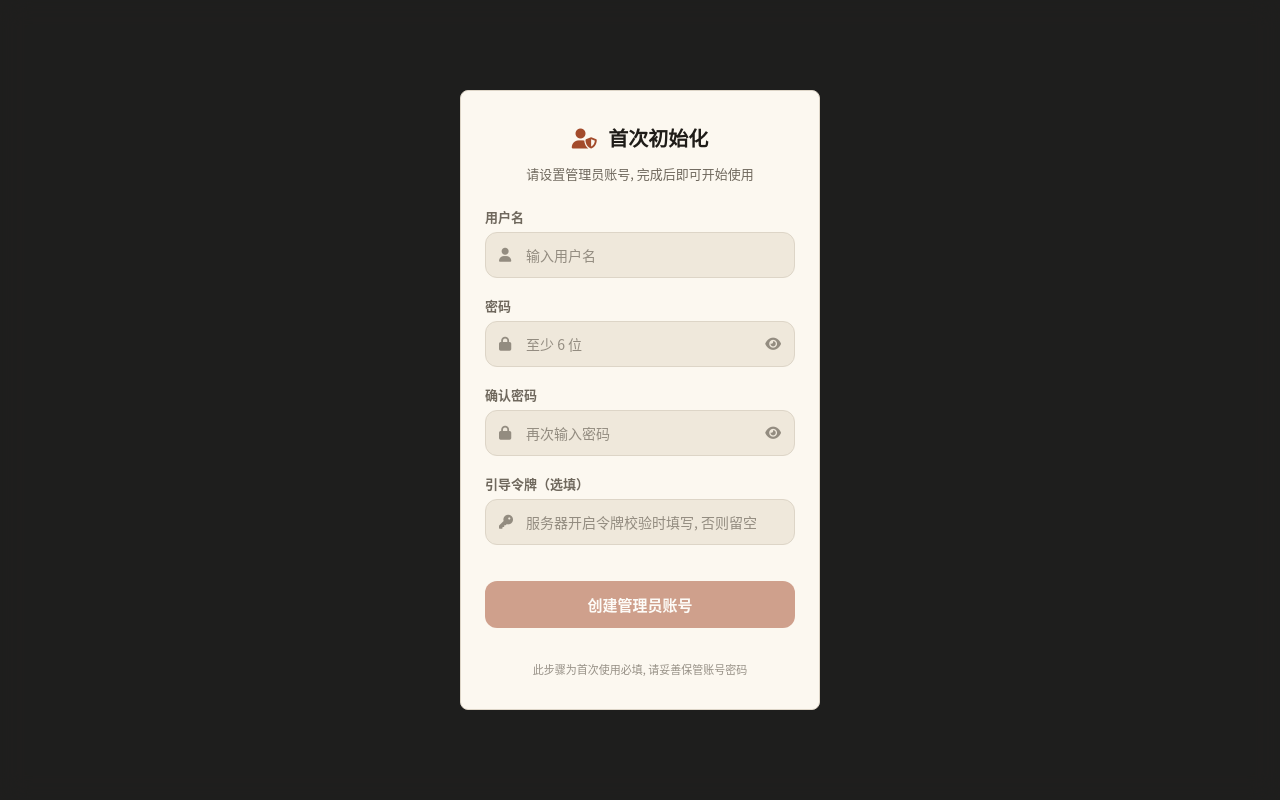
Test: SetupOverlay › setup failure › API 返回 null 时显示网络错误
Type "admin" into the field with id "setup-username".
click(640, 255); type("admin")  # box [485, 232, 795, 278]
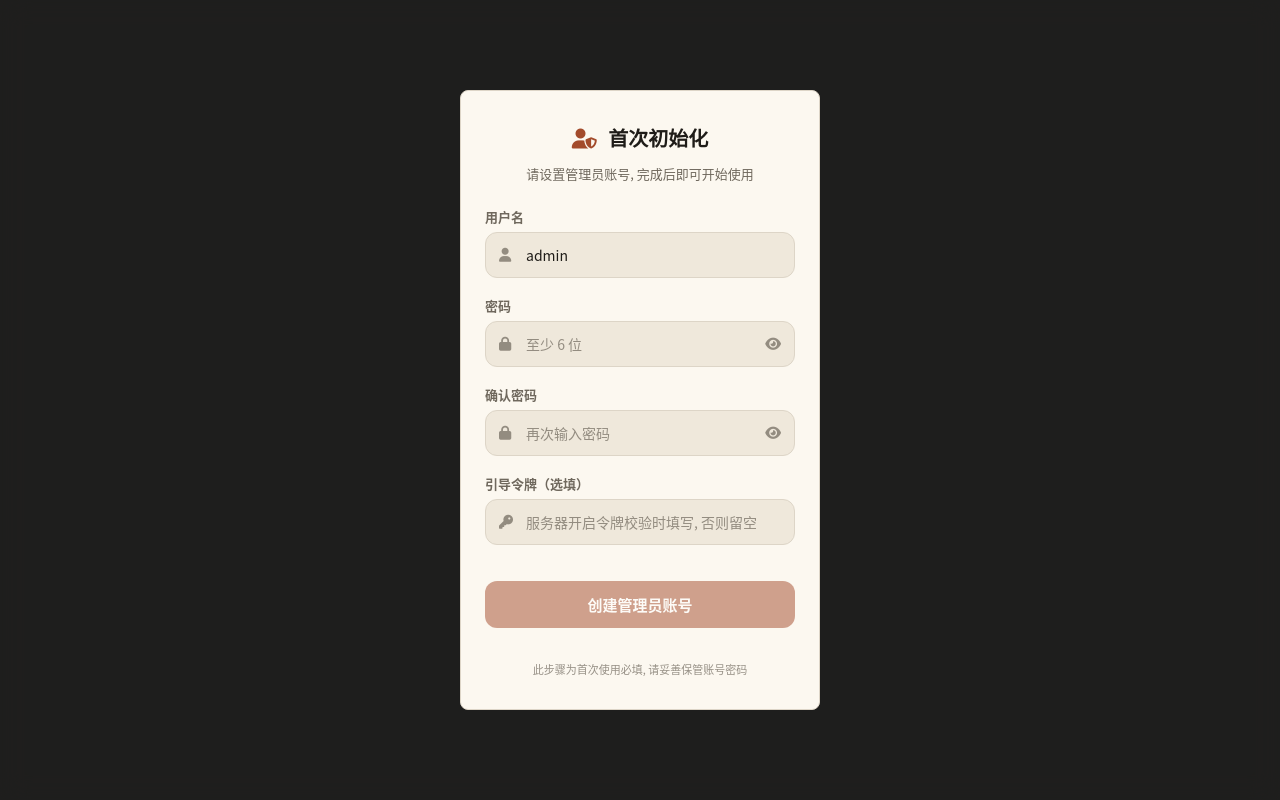
Type "123456" into the password field with id "setup-password".
click(640, 344); type("123456")  # box [485, 321, 795, 367]
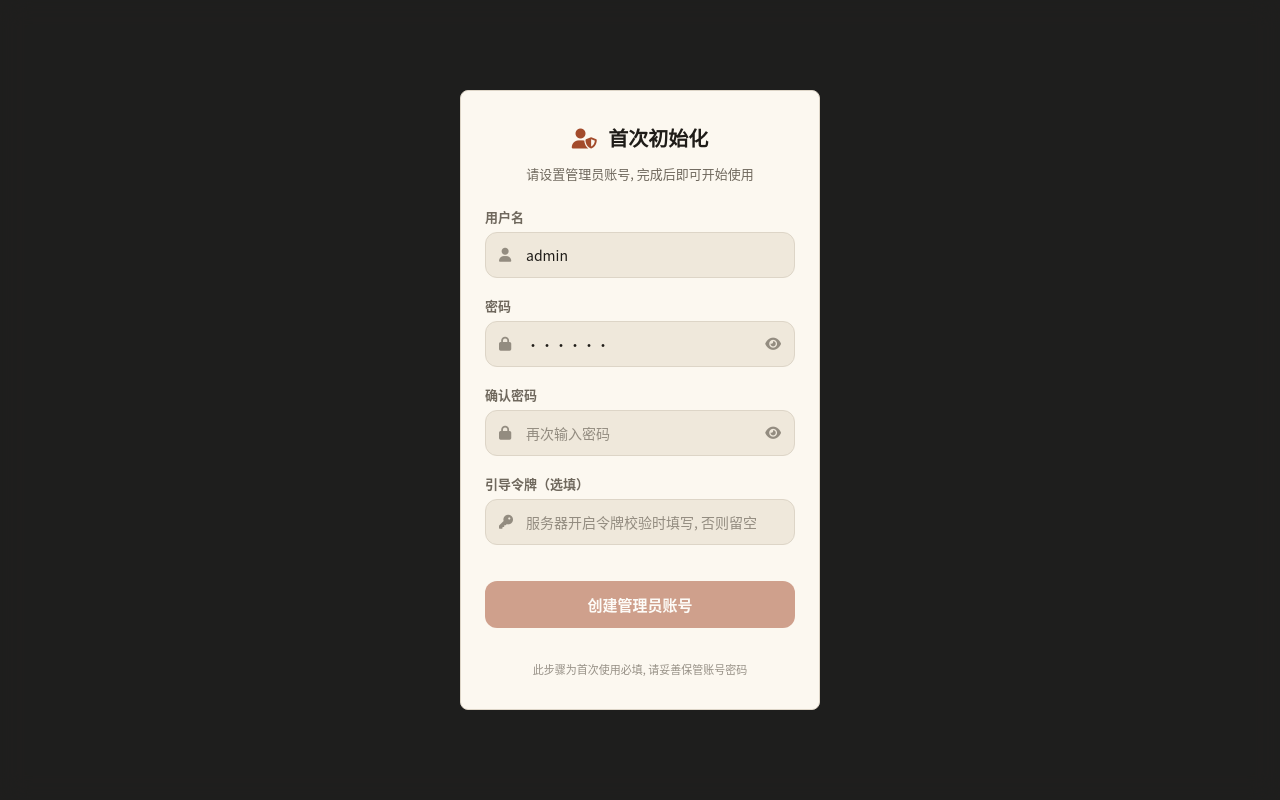
Type "123456" into the password field with id "setup-confirm".
click(640, 433); type("123456")  # box [485, 410, 795, 456]
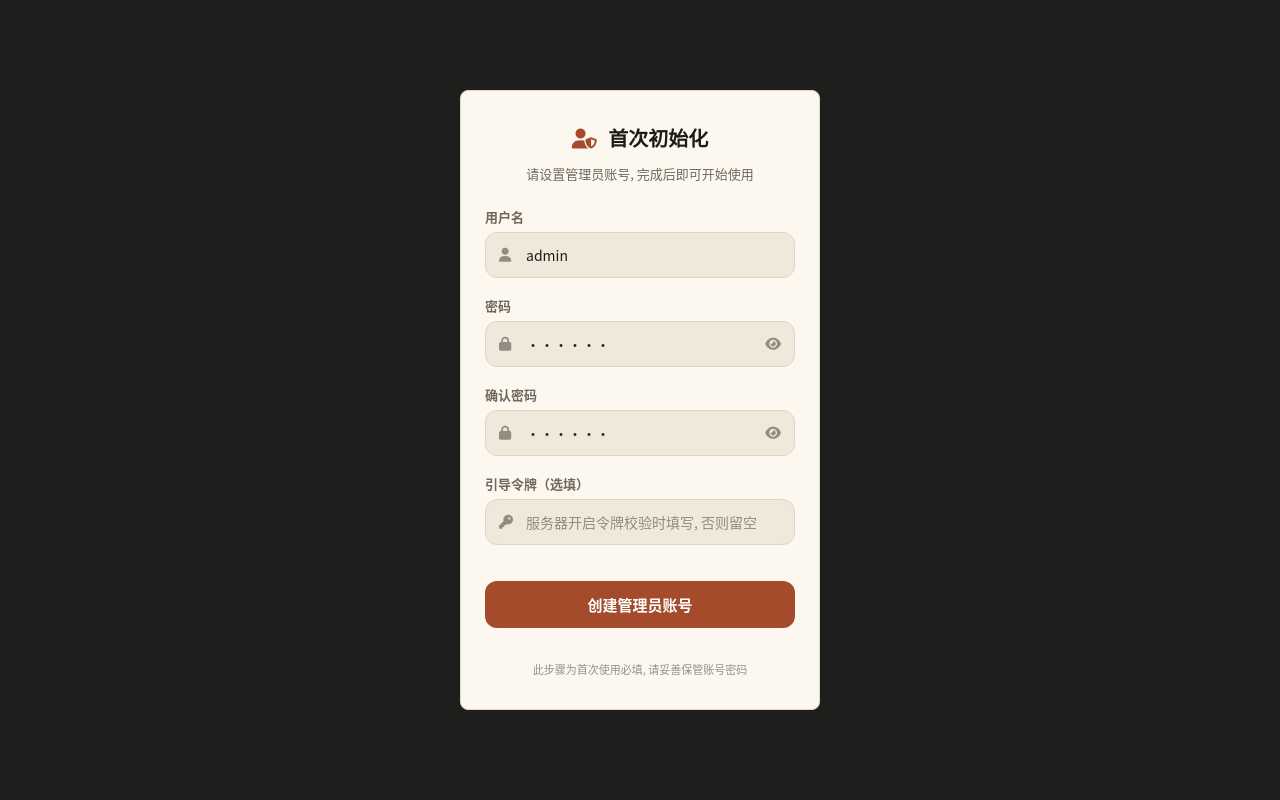
Submit the form, box [485, 207, 795, 677]
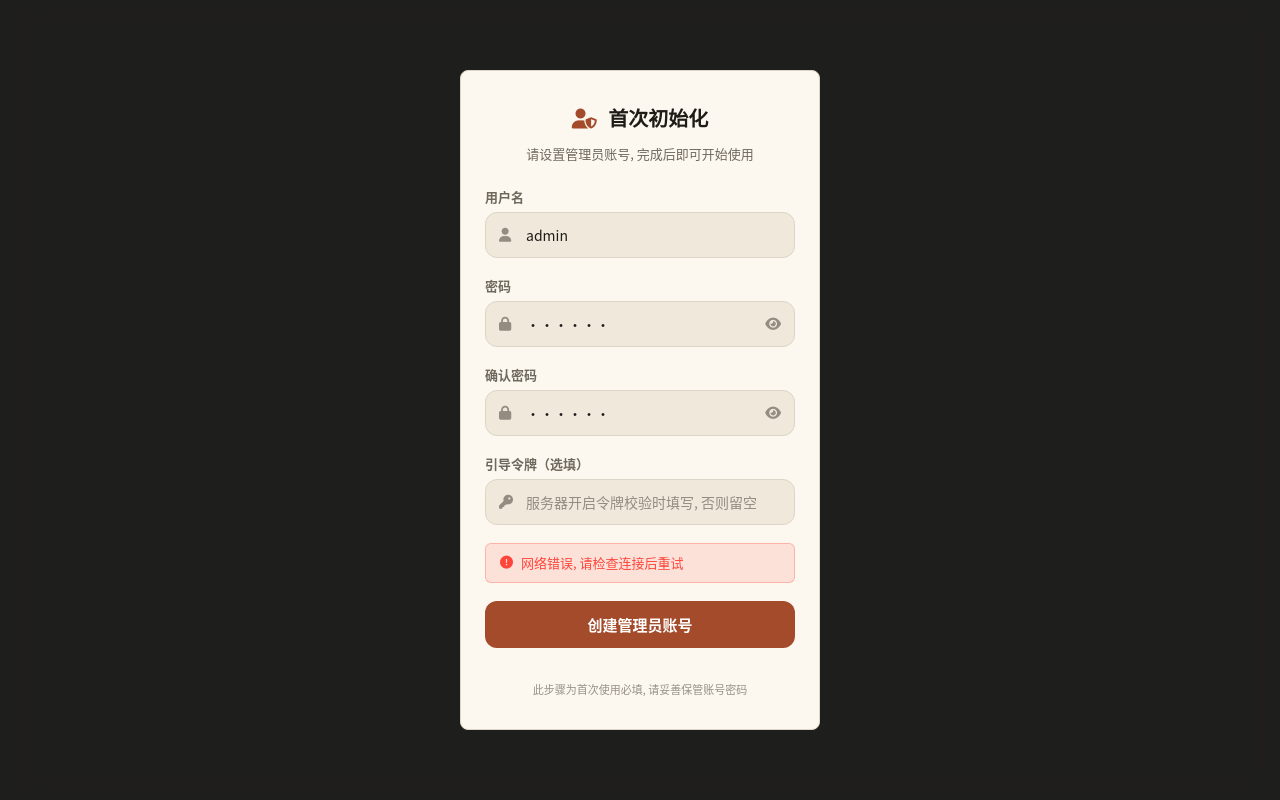
Check: the element with class "setup-error" shows "网络错误", box [521, 553, 684, 572]
